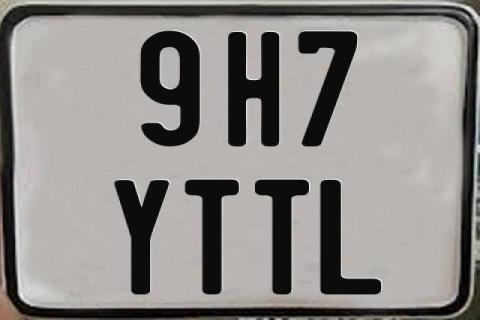0: (137, 29, 203, 149), (298, 30, 362, 148)
H: (225, 30, 279, 148)
L: (317, 178, 382, 294)
T: (183, 178, 242, 298), (255, 179, 310, 295)
Y: (114, 180, 173, 298)
